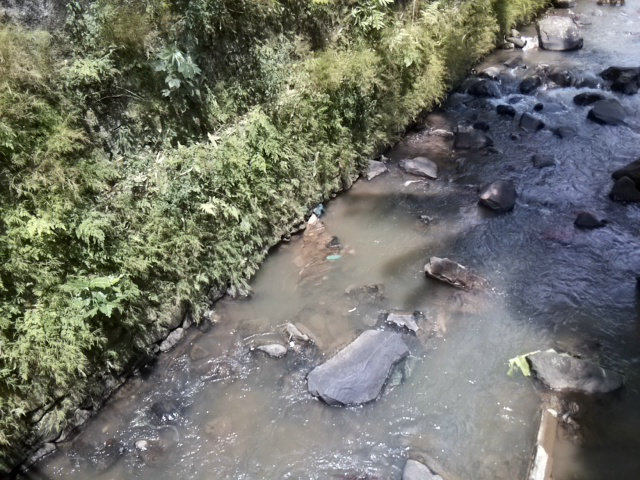Sampah_Plastik: (311, 203, 328, 218)
